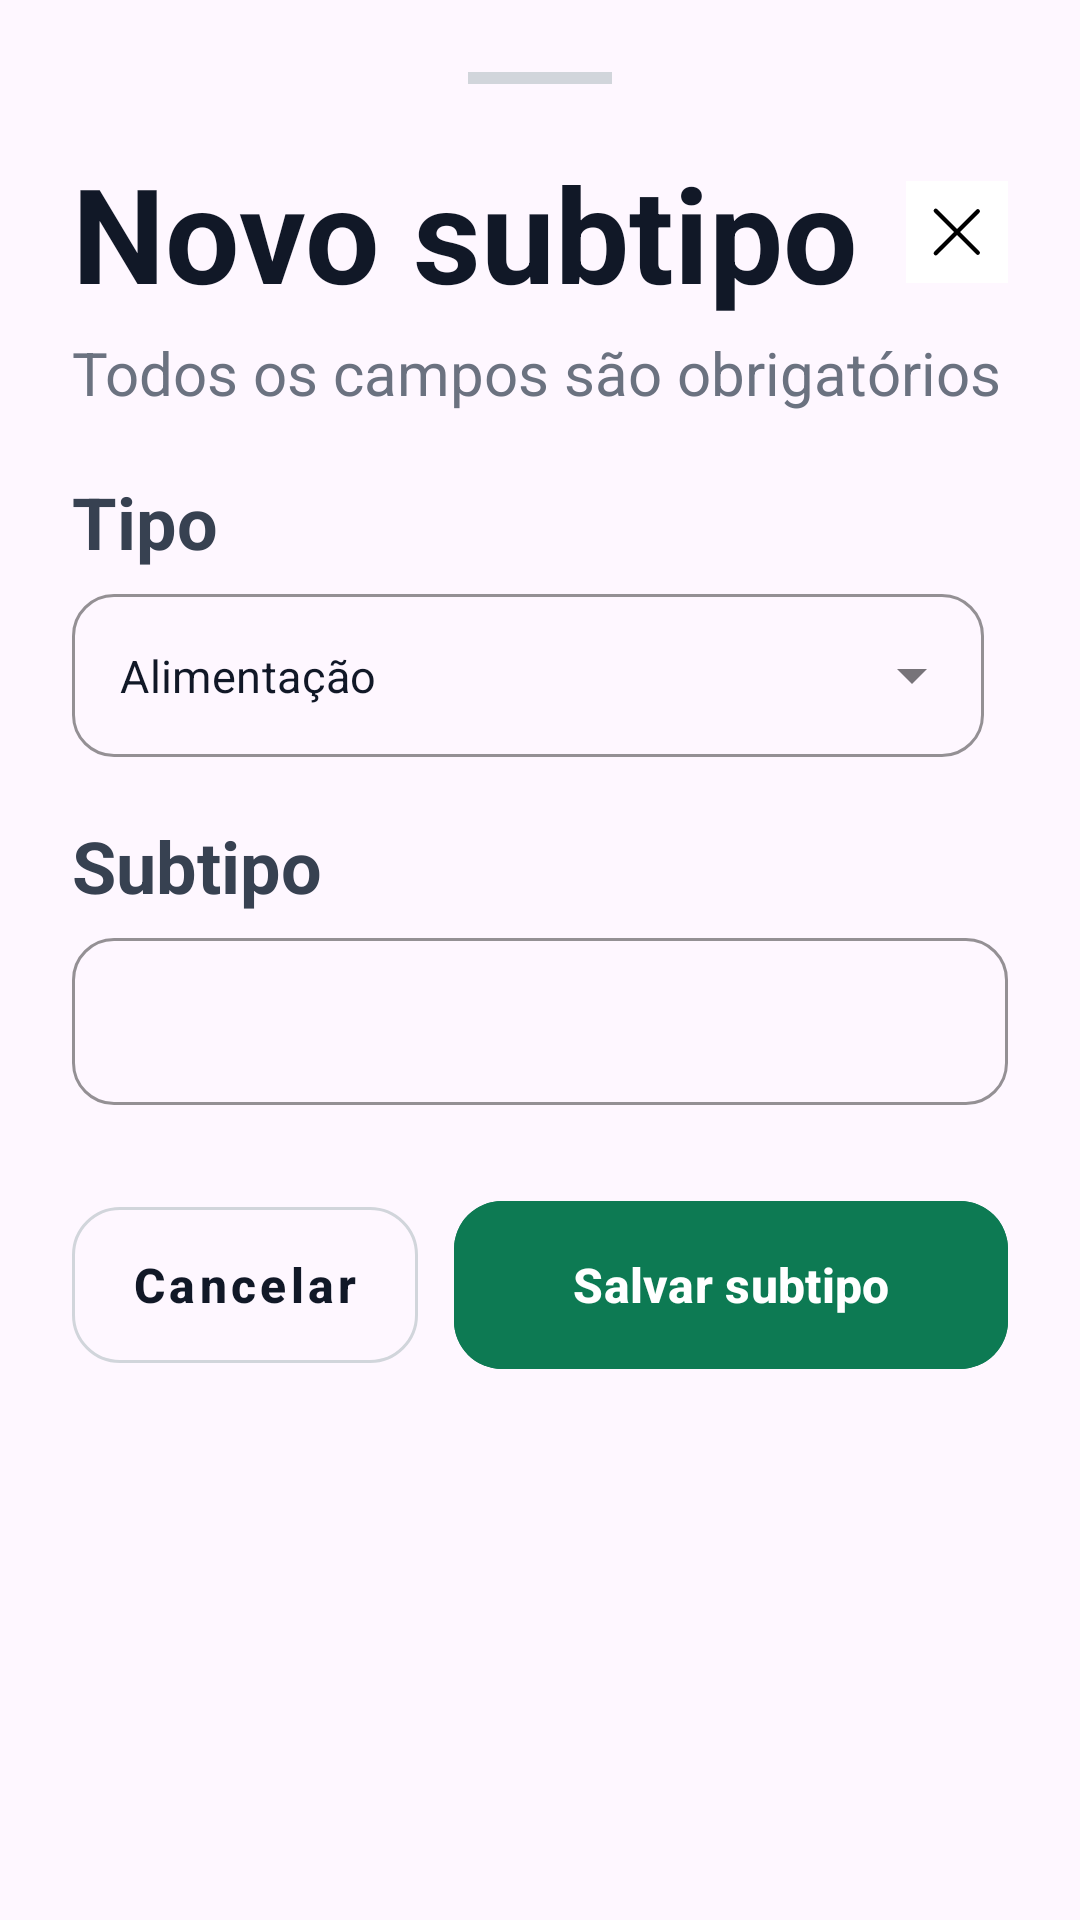

Named icons in this screenshot (1080w x 1920h) and their bounding boxes, (x1, y1, x2, y2):
close: (933, 208, 980, 256)
